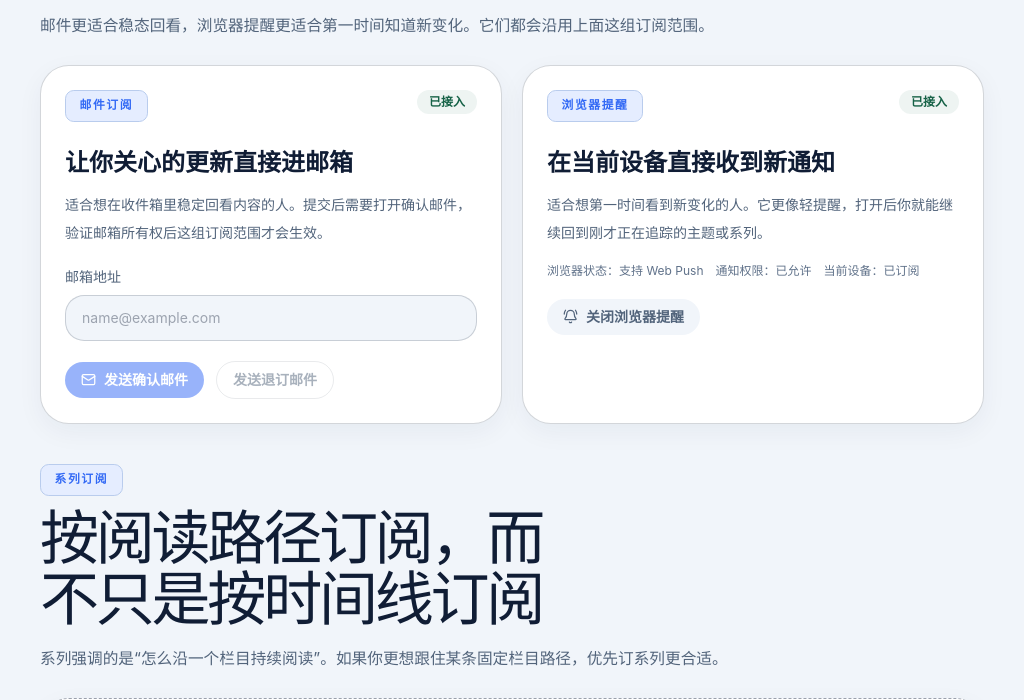
it: does not crash when the browser subscription is already gone
(page scrolled)
Step 1. Click the button "关闭浏览器提醒" → (624, 317), box [547,299,700,335]
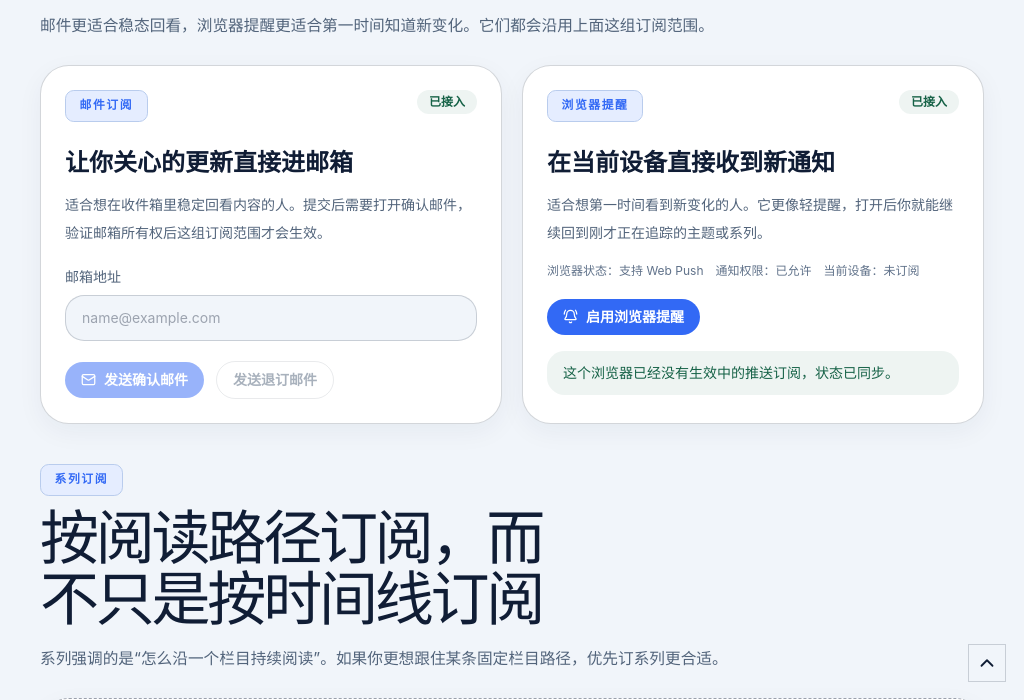
expect the text "这个浏览器已经没有生效中的推送订阅，状态已同步。" is shown: met, box [547,351,959,395]
expect the text "当前设备：未订阅" is shown: met, box [824,263,920,279]
